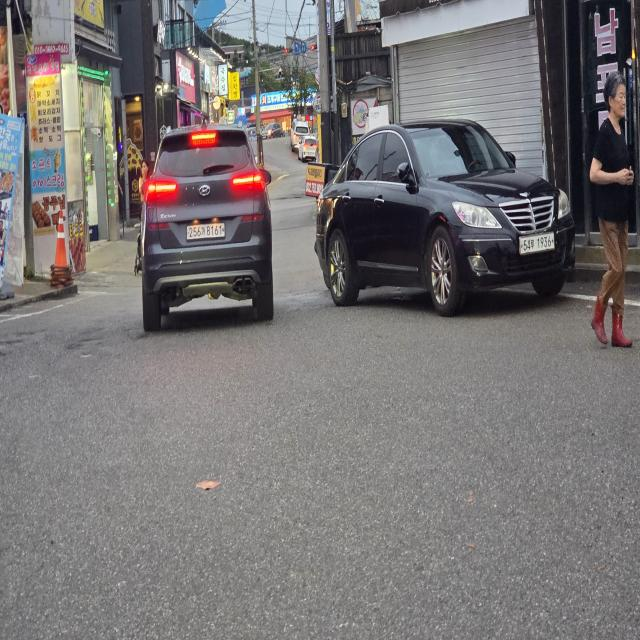car: (304, 112, 589, 334), (128, 102, 285, 342)
